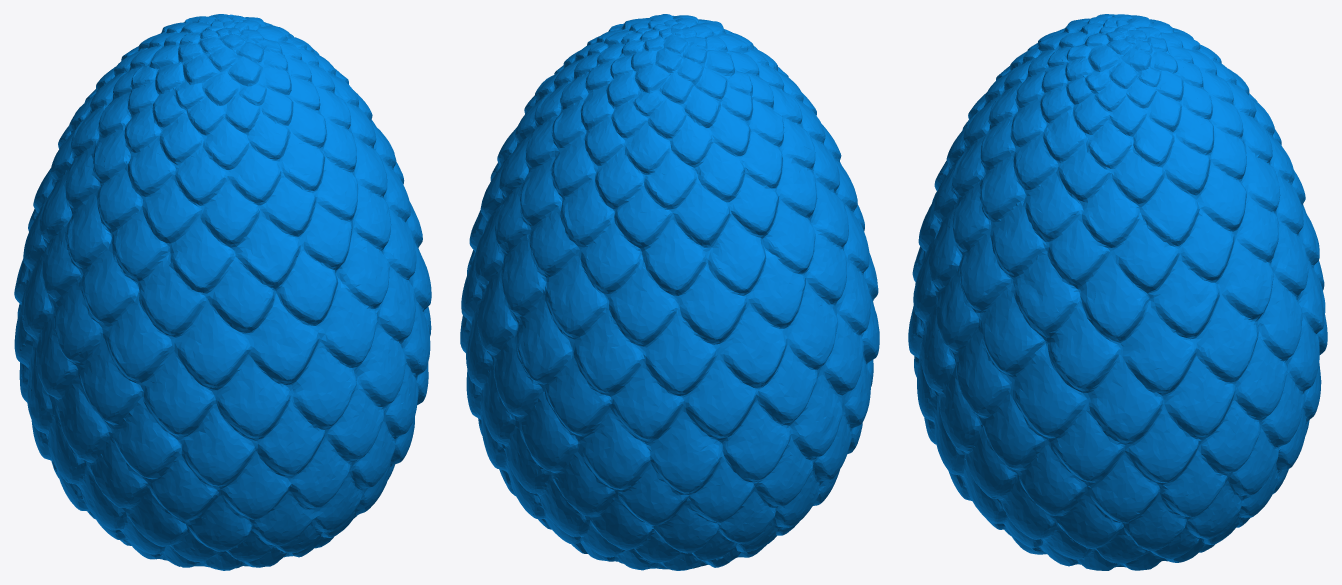
Rendered from Egg_Water.fbx.
3 views of the same model, side by side, from view 1: azimuth 30°, elevation 25°; view 2: azimuth 150°, elevation 25°; view 3: azimuth 270°, elevation 25° (orthographic).
Parts seen in each view (by area): view 1: DragonEggSolid; view 2: DragonEggSolid; view 3: DragonEggSolid.
Boxes of the visible parts, bbox=[...] form: DragonEggSolid: bbox=[14, 14, 431, 570]; DragonEggSolid: bbox=[460, 14, 879, 570]; DragonEggSolid: bbox=[908, 14, 1327, 570].
Bounding box in the file's own units: 185 × 244 × 185.
